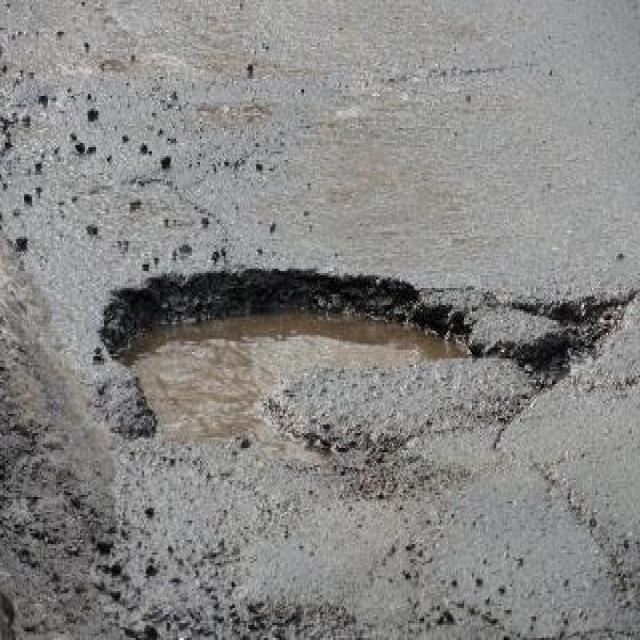pothole: (92, 262, 486, 468), (498, 290, 636, 397)
